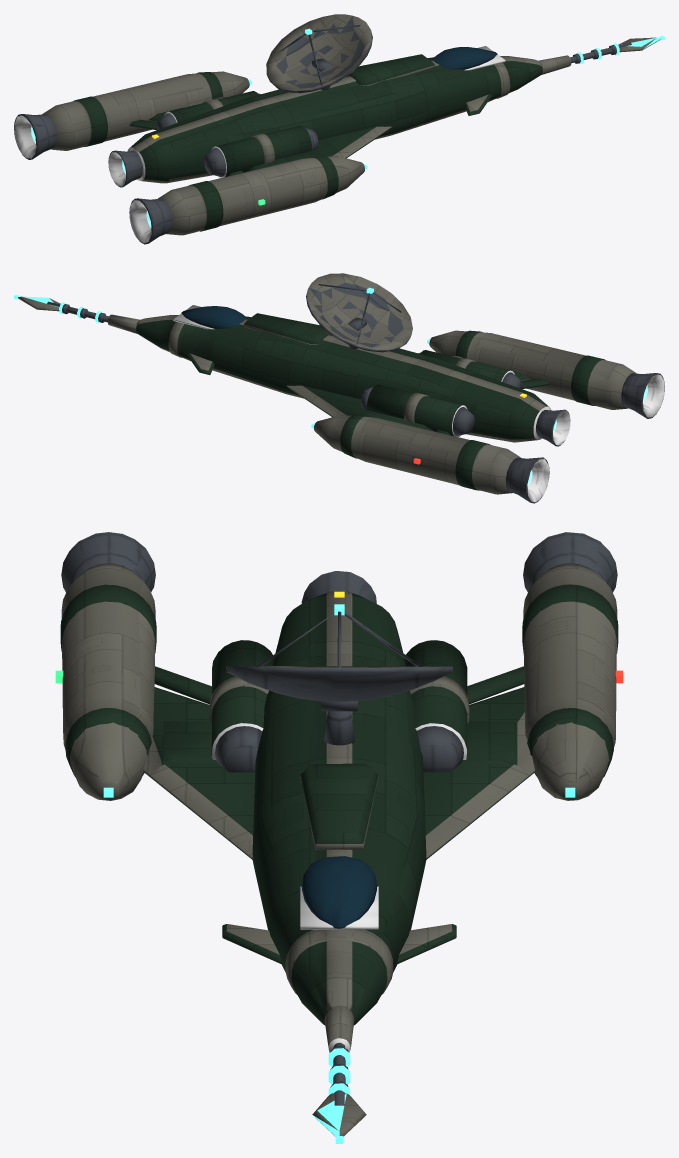
The model's file is ranger_production_v1_lod2.glb.
3 renders of one model, top to bottom at view 1: azimuth 30°, elevation 25°; view 2: azimuth 150°, elevation 25°; view 3: azimuth 270°, elevation 25°, orthographic. The views are drawn at different scales.
Visible parts, largest first — view 1: LOD0_Hull, LOD0_Armor, LOD0_HOOK_SENSOR_DISH_Armor, LOD0_Mechanical, LOD0_HOOK_SENSOR_DISH_Mechanical, LOD0_MechanicalDark, LOD0_CANOPY, LOD0_HOOK_SECONDARY_TANK_Hull, LOD0_Lights_Cyan; view 2: LOD0_Hull, LOD0_Armor, LOD0_HOOK_SENSOR_DISH_Armor, LOD0_Mechanical, LOD0_HOOK_SENSOR_DISH_Mechanical, LOD0_HOOK_SECONDARY_TANK_Hull, LOD0_MechanicalDark, LOD0_CANOPY, LOD0_HOOK_SECONDARY_TANK_Mechanical; view 3: LOD0_Hull, LOD0_Armor, LOD0_Mechanical, LOD0_HOOK_SENSOR_DISH_Mechanical, LOD0_CANOPY, LOD0_HOOK_SECONDARY_TANK_Hull, LOD0_HOOK_SECONDARY_TANK_Mechanical, LOD0_Lights_Cyan, LOD0_MechanicalDark.
Boxes of the visible parts, <box> form: LOD0_Hull: <box>73,54,542,231</box>; LOD0_Armor: <box>42,37,660,235</box>; LOD0_HOOK_SENSOR_DISH_Armor: <box>266,14,371,91</box>; LOD0_Mechanical: <box>14,42,631,244</box>; LOD0_HOOK_SENSOR_DISH_Mechanical: <box>267,16,372,93</box>; LOD0_MechanicalDark: <box>14,46,505,243</box>; LOD0_CANOPY: <box>432,47,497,69</box>; LOD0_HOOK_SECONDARY_TANK_Hull: <box>169,91,258,122</box>; LOD0_Lights_Cyan: <box>248,36,664,169</box>; LOD0_Hull: <box>136,313,605,490</box>; LOD0_Armor: <box>18,296,636,494</box>; LOD0_HOOK_SENSOR_DISH_Armor: <box>307,273,412,349</box>; LOD0_Mechanical: <box>47,301,664,503</box>; LOD0_HOOK_SENSOR_DISH_Mechanical: <box>306,282,411,352</box>; LOD0_HOOK_SECONDARY_TANK_Hull: <box>367,384,463,435</box>; LOD0_MechanicalDark: <box>173,305,664,502</box>; LOD0_CANOPY: <box>181,306,246,328</box>; LOD0_HOOK_SECONDARY_TANK_Mechanical: <box>360,387,474,435</box>; LOD0_Hull: <box>60,584,618,1024</box>; LOD0_Armor: <box>61,563,617,1136</box>; LOD0_Mechanical: <box>61,532,617,1105</box>; LOD0_HOOK_SENSOR_DISH_Mechanical: <box>226,611,452,745</box>; LOD0_CANOPY: <box>302,856,376,928</box>; LOD0_HOOK_SECONDARY_TANK_Hull: <box>404,640,467,749</box>; LOD0_HOOK_SECONDARY_TANK_Mechanical: <box>417,726,463,772</box>; LOD0_Lights_Cyan: <box>103,787,575,1143</box>; LOD0_MechanicalDark: <box>212,723,378,1052</box>.
Size of what is drawn, in the model's own units: 17.73 by 3.39 by 7.5.
Materials: 10 (4 with a texture image).
